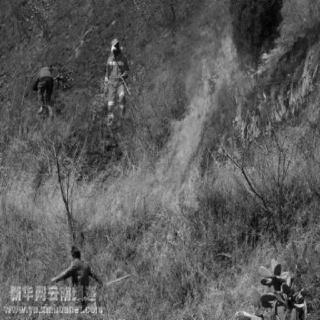Fire: (140, 22, 319, 206)
other: (99, 34, 130, 124)
